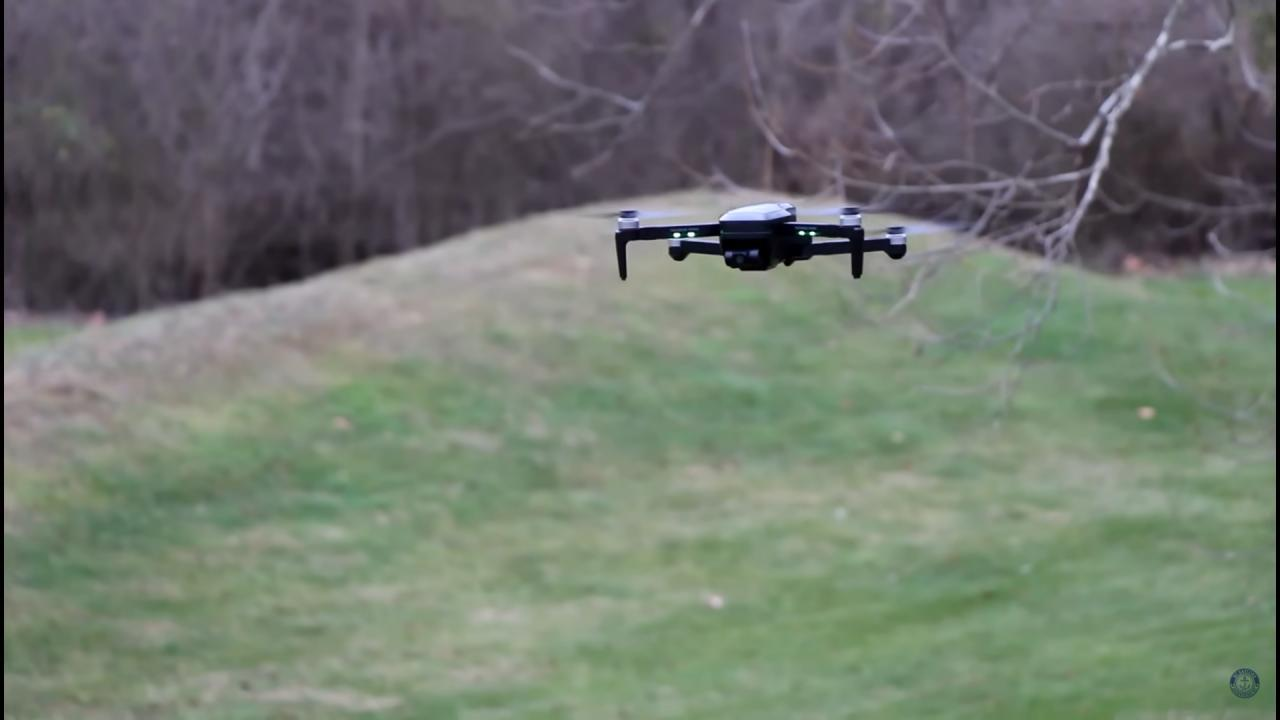Drone: (543, 179, 982, 300)
